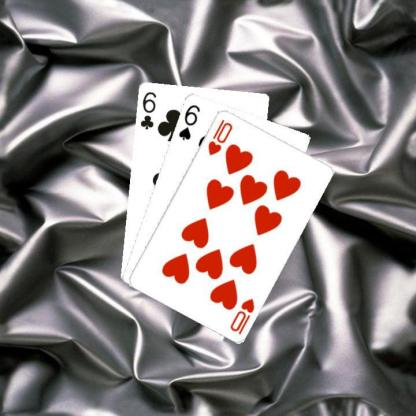10H: (205, 116, 234, 156), (227, 295, 255, 335)
6C: (138, 88, 157, 130)
6S: (176, 102, 201, 142)
